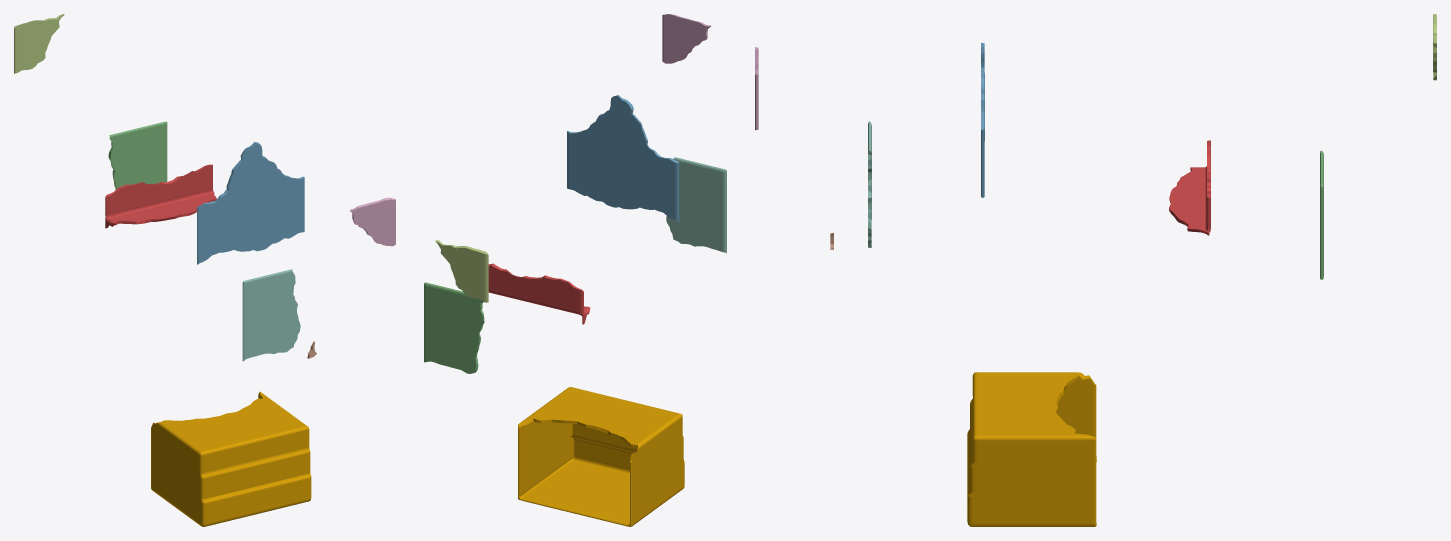
File: fractured_22_8pcs_transformed.glb
The picture shows the model from 3 angles, left to right: view 1: azimuth 30°, elevation 25°; view 2: azimuth 150°, elevation 25°; view 3: azimuth 270°, elevation 25°; orthographic projection. The views are drawn at different scales.
Parts seen in each view (by area): view 1: piece_0.obj, piece_2.obj, piece_4.obj, piece_1.obj, piece_3.obj, piece_5.obj, piece_6.obj; view 2: piece_0.obj, piece_2.obj, piece_3.obj, piece_4.obj, piece_1.obj, piece_5.obj, piece_6.obj; view 3: piece_0.obj, piece_1.obj.
Part boxes in pixels (bbox=[...]): piece_0.obj: bbox=[151, 392, 311, 526]; piece_2.obj: bbox=[197, 142, 304, 264]; piece_4.obj: bbox=[242, 269, 300, 361]; piece_1.obj: bbox=[105, 164, 216, 228]; piece_3.obj: bbox=[108, 121, 167, 189]; piece_5.obj: bbox=[14, 14, 64, 73]; piece_6.obj: bbox=[350, 197, 395, 246]; piece_0.obj: bbox=[518, 387, 684, 526]; piece_2.obj: bbox=[567, 95, 679, 221]; piece_3.obj: bbox=[424, 282, 484, 373]; piece_4.obj: bbox=[666, 157, 726, 253]; piece_1.obj: bbox=[488, 263, 590, 324]; piece_5.obj: bbox=[435, 240, 488, 302]; piece_6.obj: bbox=[662, 14, 711, 63]; piece_0.obj: bbox=[967, 372, 1096, 526]; piece_1.obj: bbox=[1169, 140, 1210, 235].
Bounding box in the file's own units: 0.4162 × 1.33 × 1.81.
